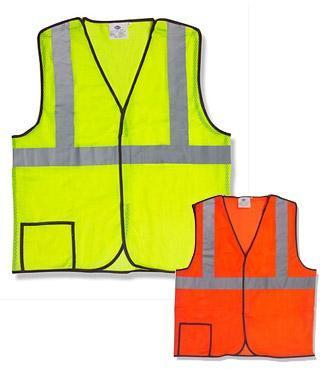vest: (11, 21, 231, 274), (173, 194, 317, 360)
